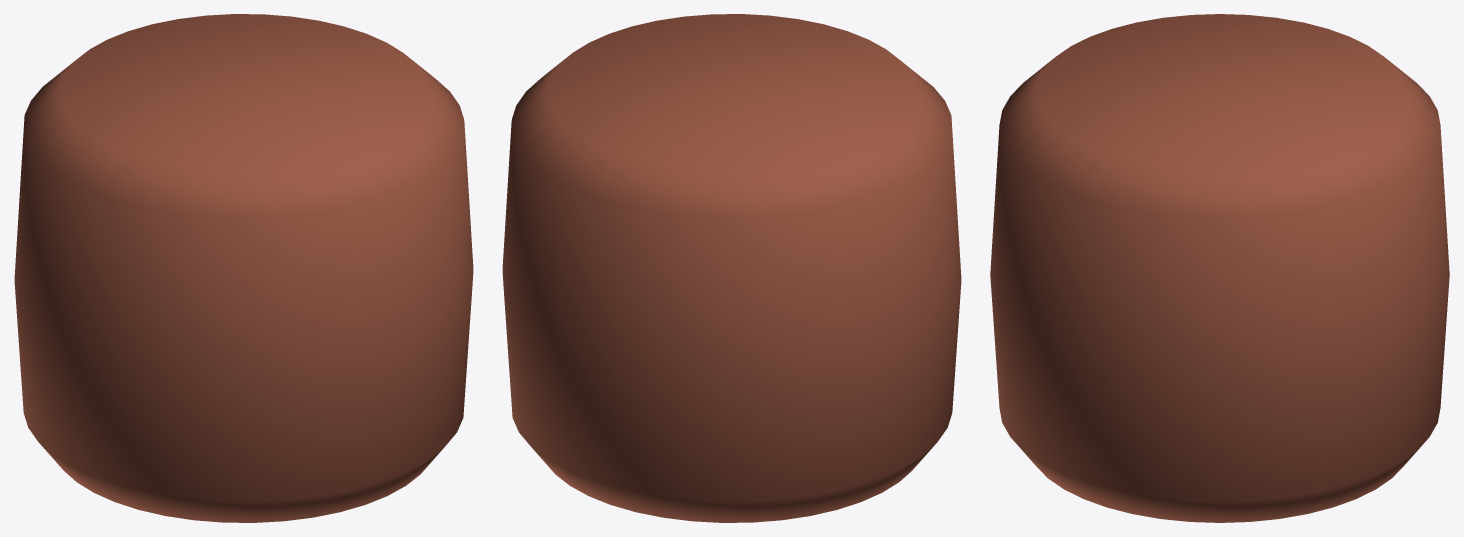
Rendered from pufe.glb.
3 renders of one model, left to right at view 1: azimuth 30°, elevation 25°; view 2: azimuth 150°, elevation 25°; view 3: azimuth 270°, elevation 25°, orthographic.
Parts seen in each view (by area): view 1: p; view 2: p; view 3: p.
Part boxes in pixels (box(x1,y1,x2,y2)): p: box(14, 14, 473, 522); p: box(502, 14, 961, 522); p: box(990, 14, 1449, 522).
Size of the model in its own units: 0.5 by 0.42 by 0.5.
